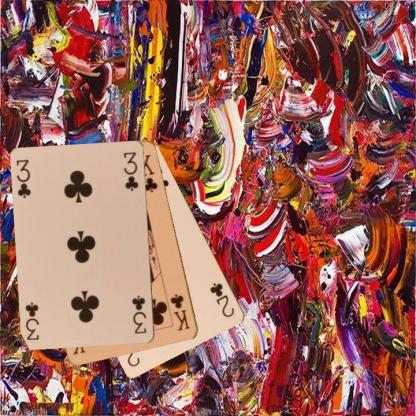2c: (208, 280, 236, 319)
3c: (129, 293, 148, 335), (14, 157, 32, 200)
Kc: (168, 291, 191, 332)
